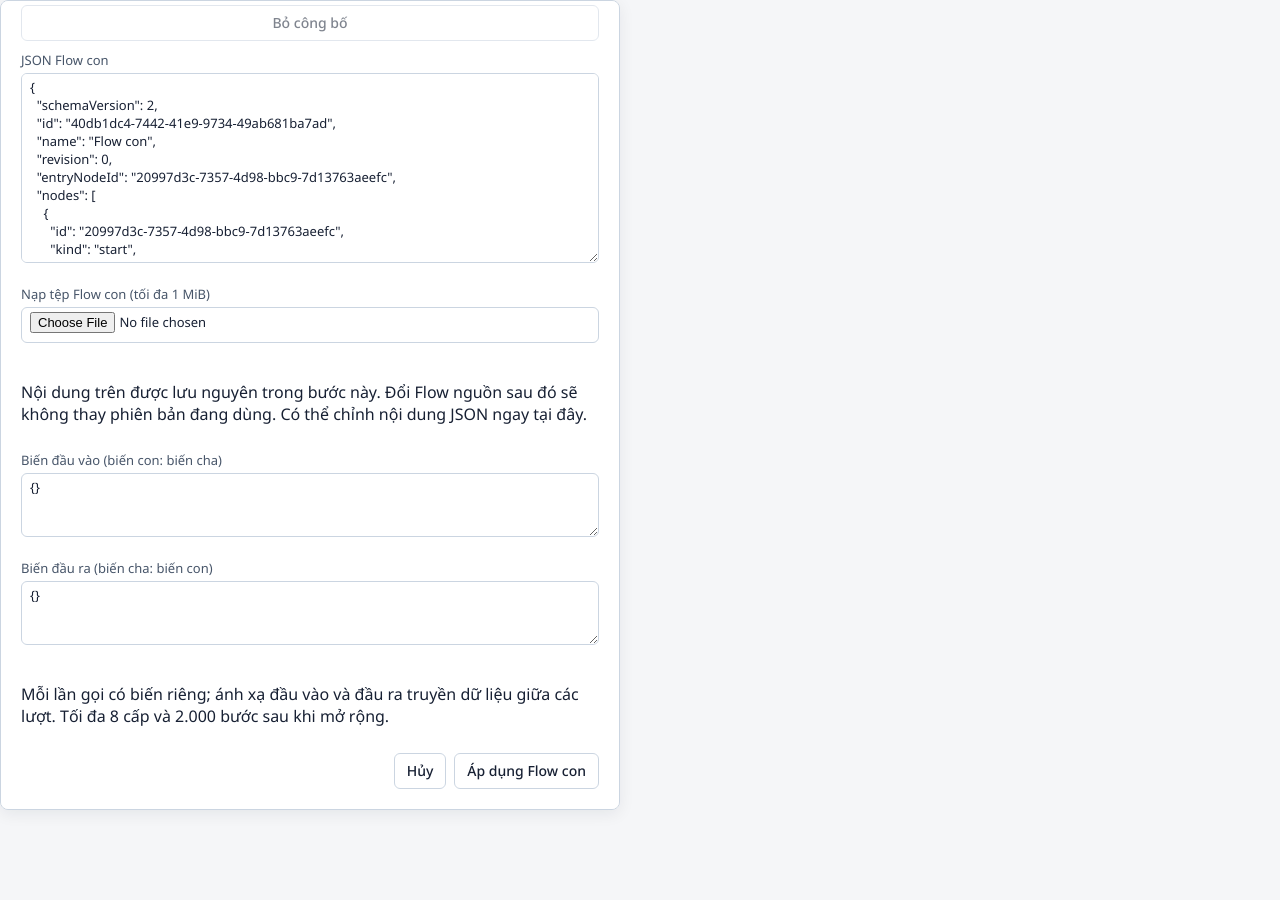
Test: composition dialog › keeps validation errors visible and does not apply a half valid composition
(page scrolled)
Click the button "Áp dụng Flow con" at (527, 771), box [454,753,599,789]
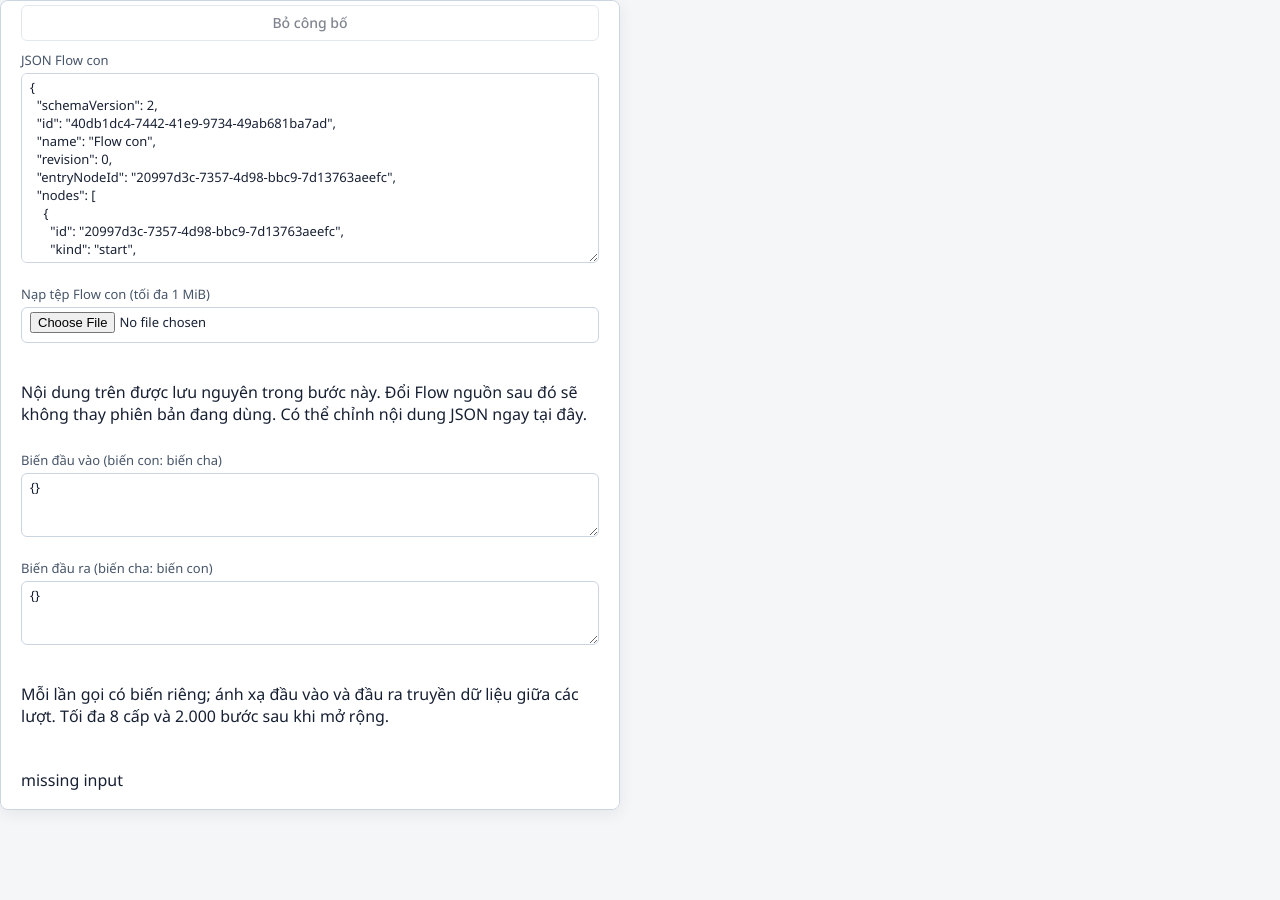
Now the message reads "missing input", box [21,769,123,791]
